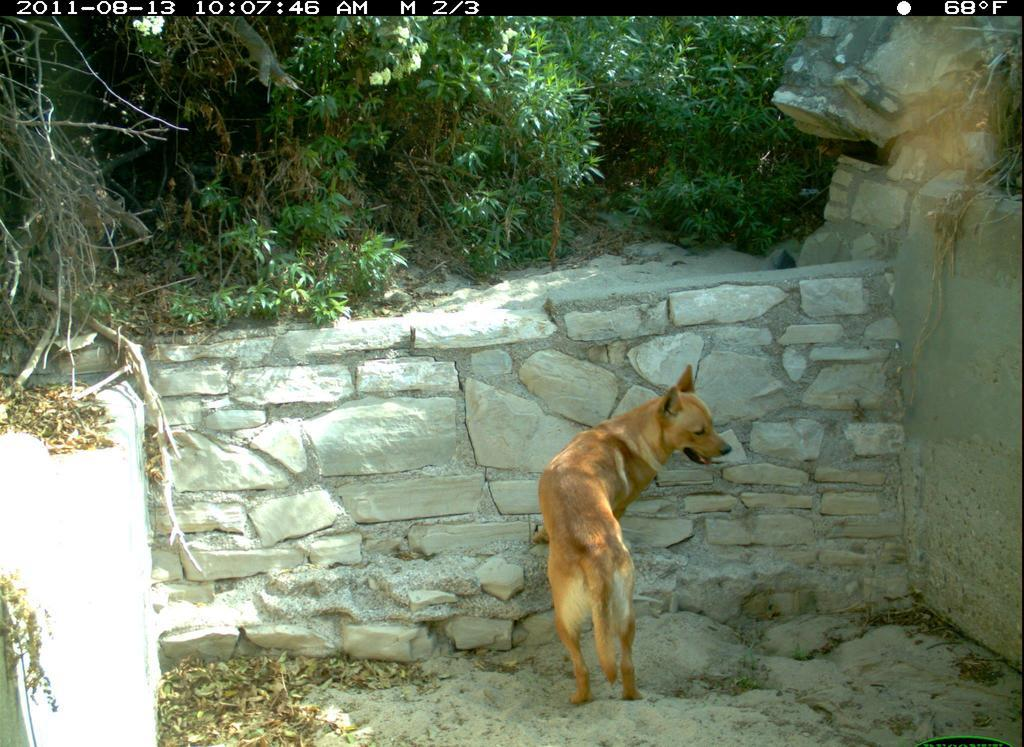dog: (534, 361, 738, 712)
